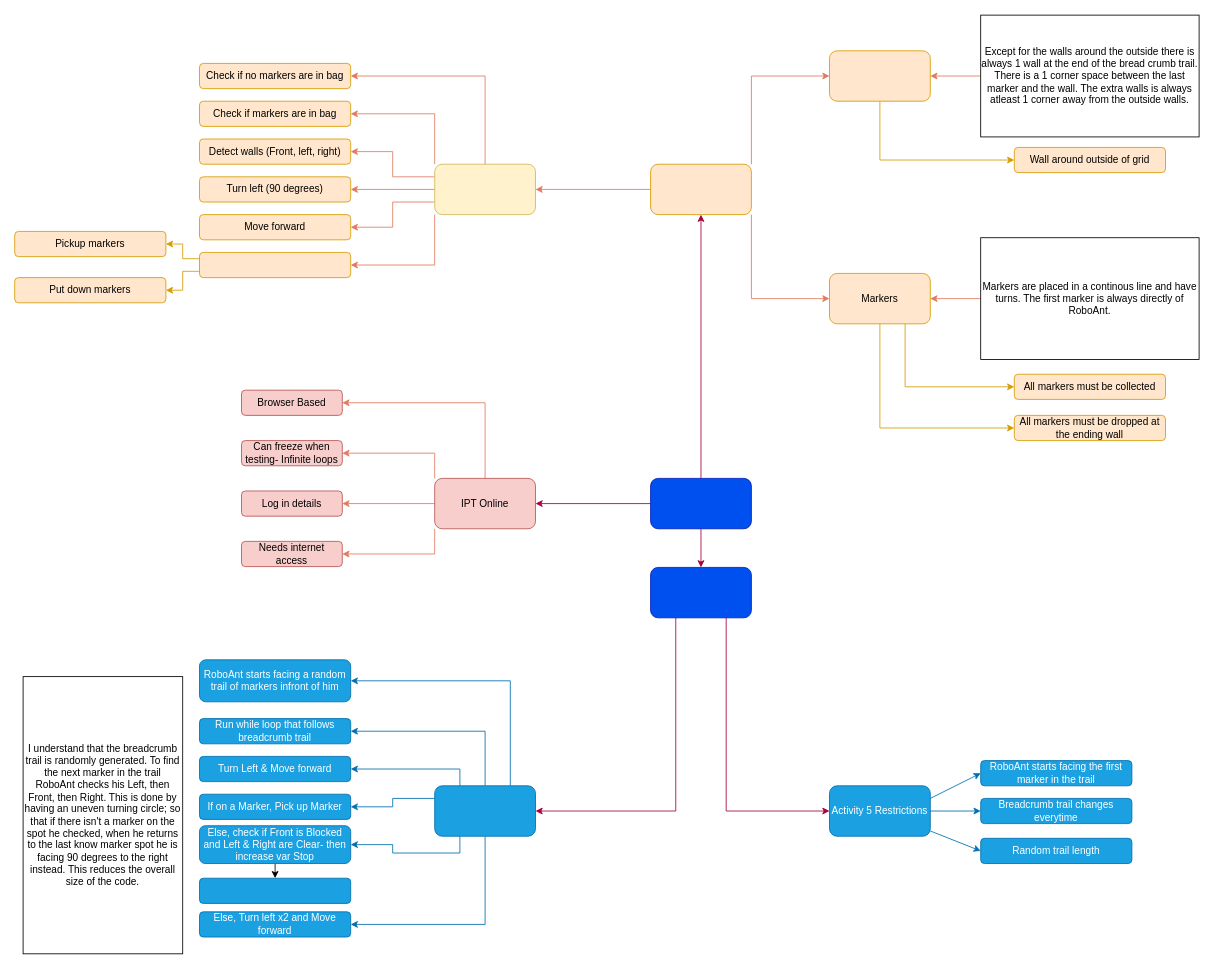
This 1214x969 diagram has some shape labels left out. The centre of each missing label's shape, as x and y in pixels:
Abilities: the point at 485,189
Activity 7: the point at 700,592
Detect markers: the point at 275,265
Problem breakdown to code: the point at 485,810
Restrictions: the point at 700,189
RoboAnt: the point at 700,503
Walls (Impenetrable barriers): the point at 879,75
While, Any Markers in Marker Bag, Put down Marker: the point at 275,890
